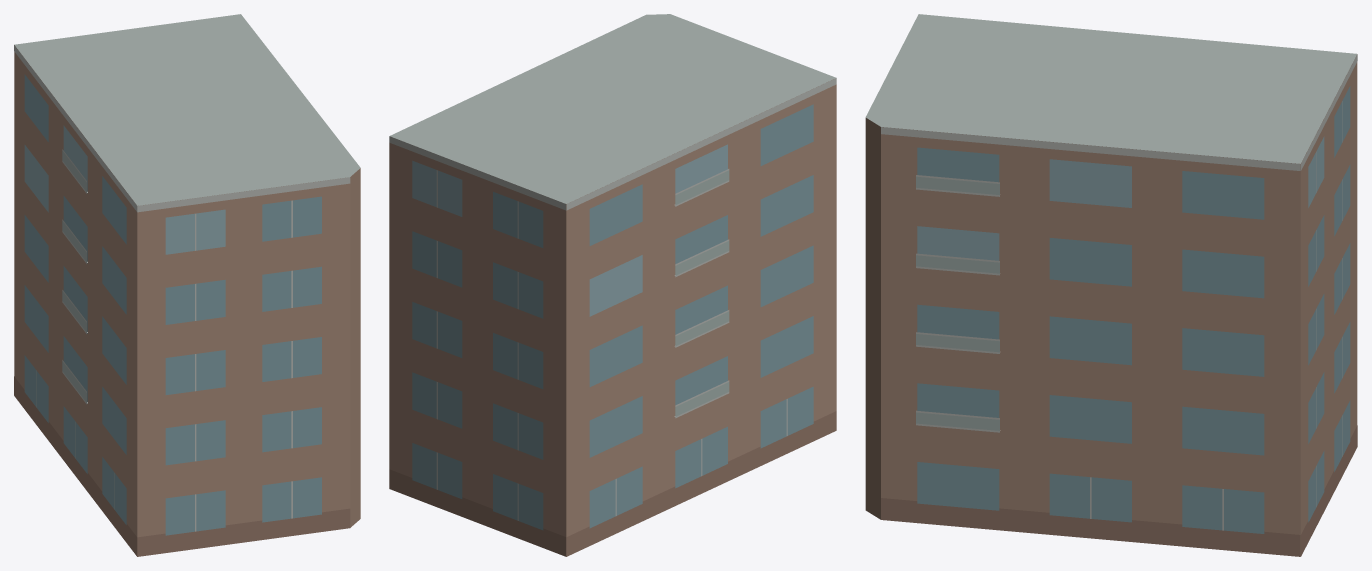
File: survey-upis-32663395.glb
3 views of the same model, side by side, from view 1: azimuth 30°, elevation 25°; view 2: azimuth 150°, elevation 25°; view 3: azimuth 270°, elevation 25° (orthographic). The views are drawn at different scales.
Parts seen in each view (by area): view 1: survey-upis-32663395.tmp; view 2: survey-upis-32663395.tmp; view 3: survey-upis-32663395.tmp.
Boxes of the visible parts, x1,y1,x2,y2 form: survey-upis-32663395.tmp: (14,14,360,556); survey-upis-32663395.tmp: (389,14,836,556); survey-upis-32663395.tmp: (865,14,1357,556).
Bounding box in the file's own units: 10.81 × 13.2 × 14.99.
